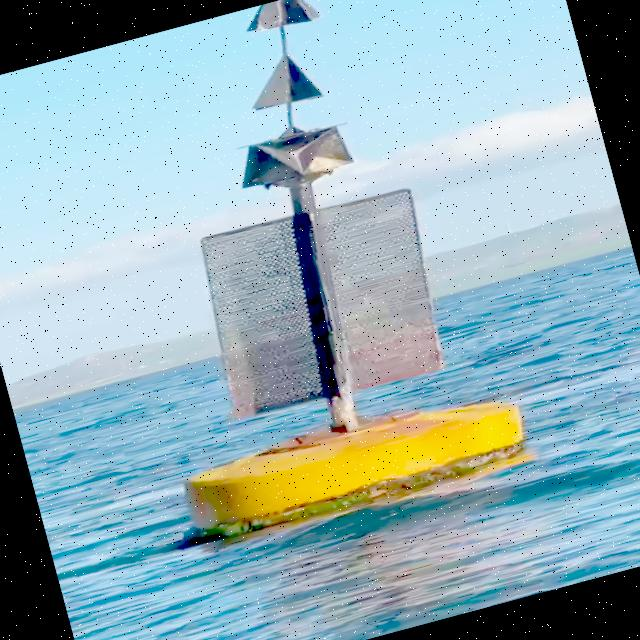marque: (51, 1, 538, 554)
